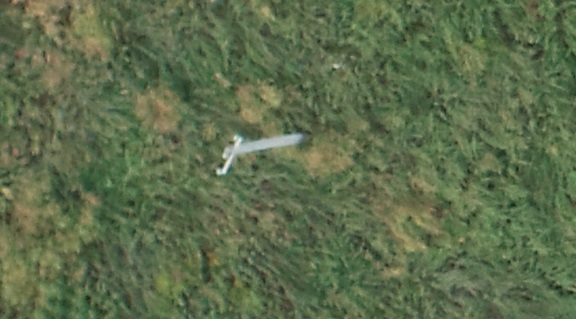opora: (213, 130, 303, 176)
